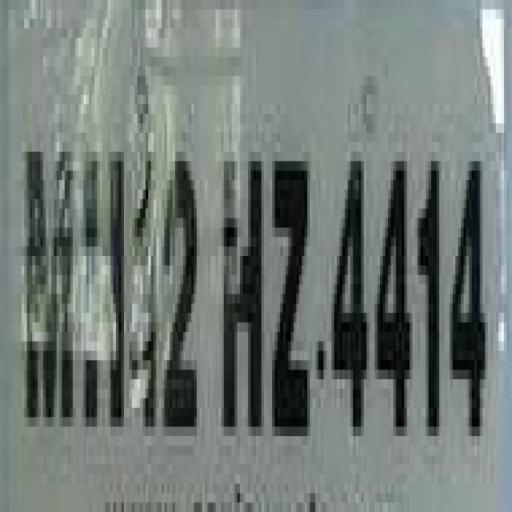number plate: (2, 28, 512, 512)
